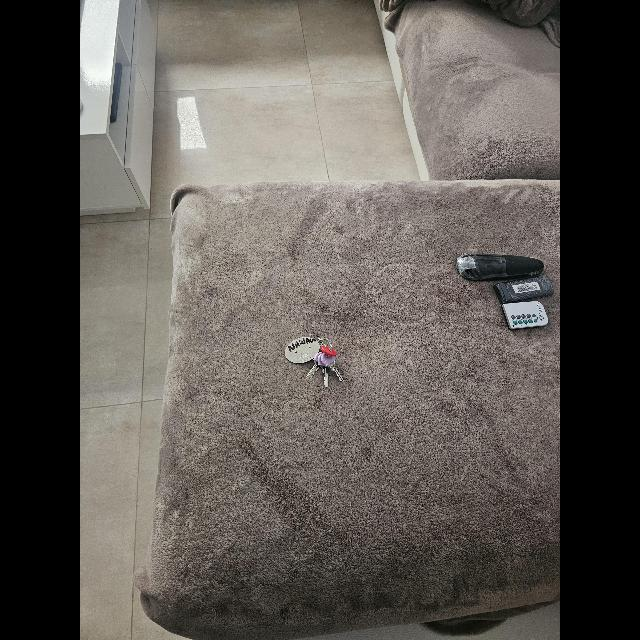Keys: (285, 338, 345, 388)
